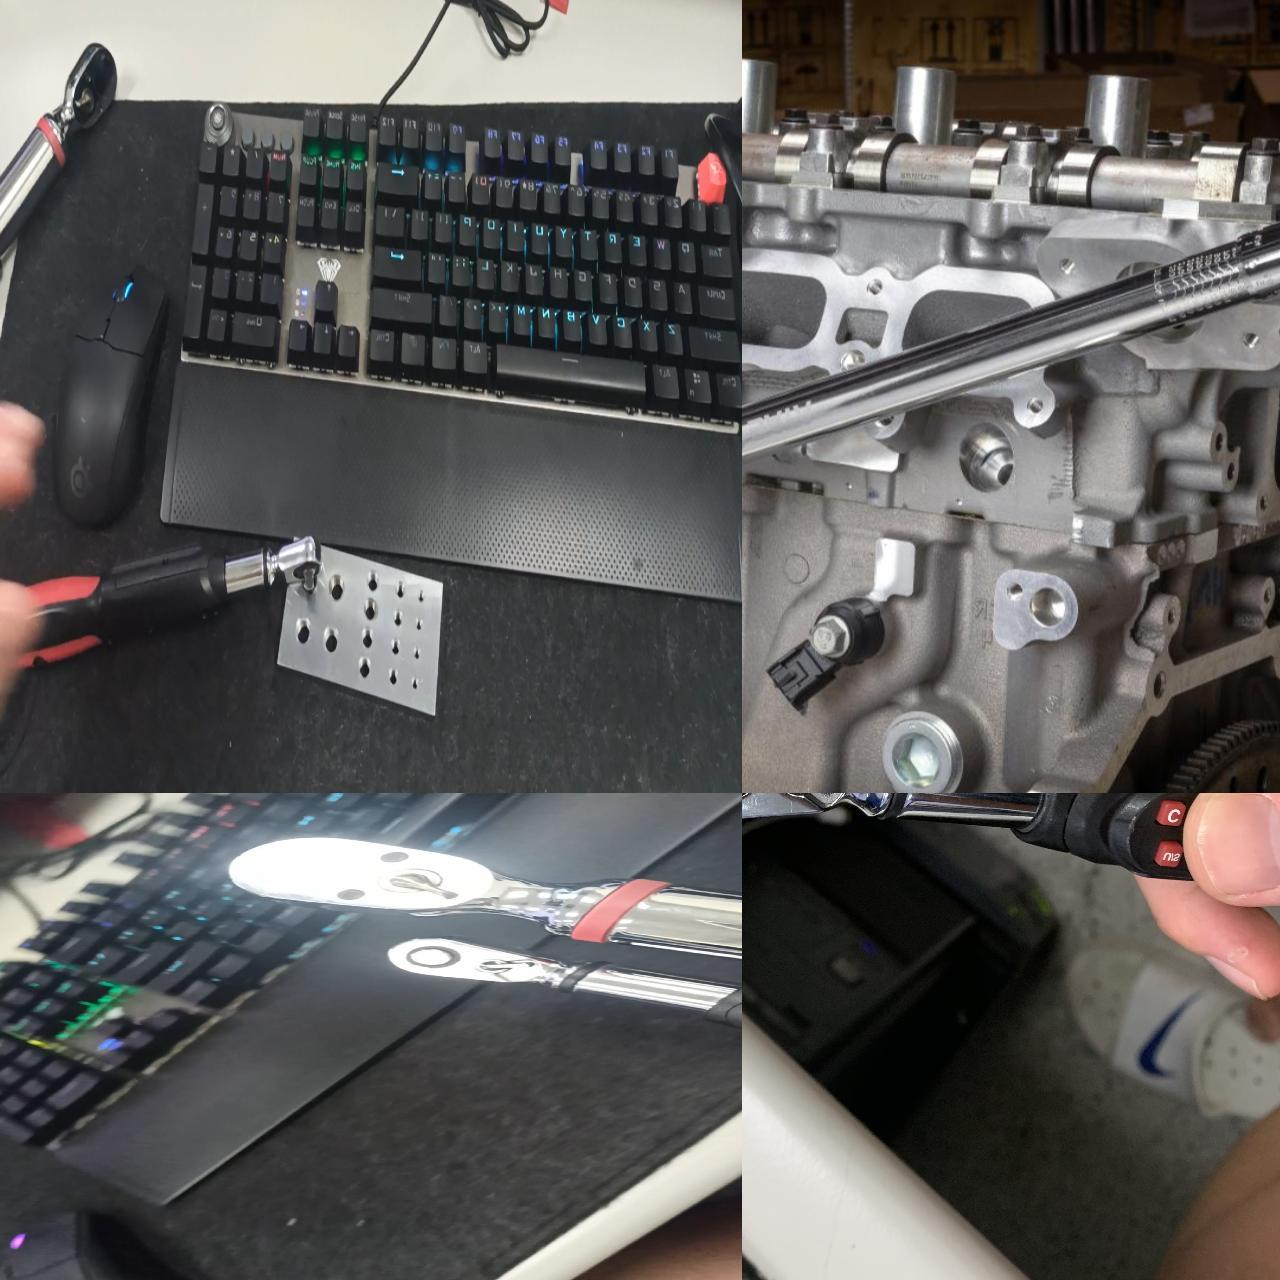Tool: (231, 831, 605, 928), (381, 935, 583, 987)
